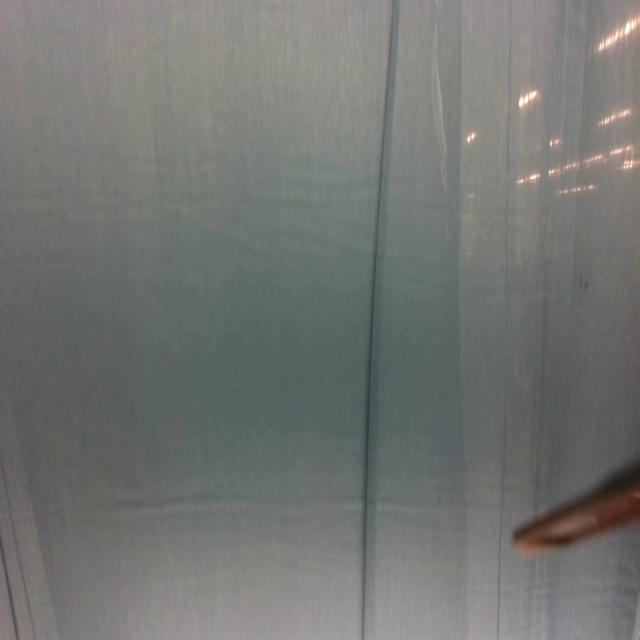crease: (459, 0, 576, 504), (359, 0, 401, 640), (0, 454, 52, 640), (464, 558, 552, 640), (431, 17, 449, 184), (463, 506, 510, 556)
hole: (579, 273, 583, 291), (584, 281, 590, 290)
